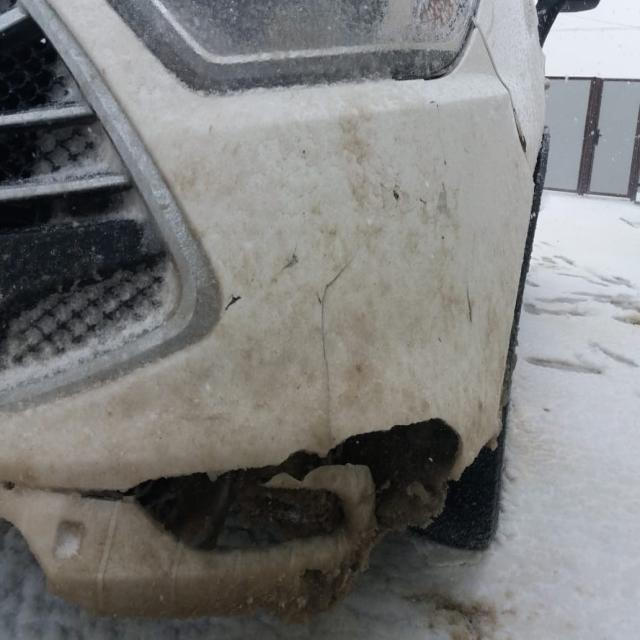Dechirure: (476, 24, 544, 195), (313, 255, 349, 460), (224, 246, 297, 317), (461, 275, 477, 332)
